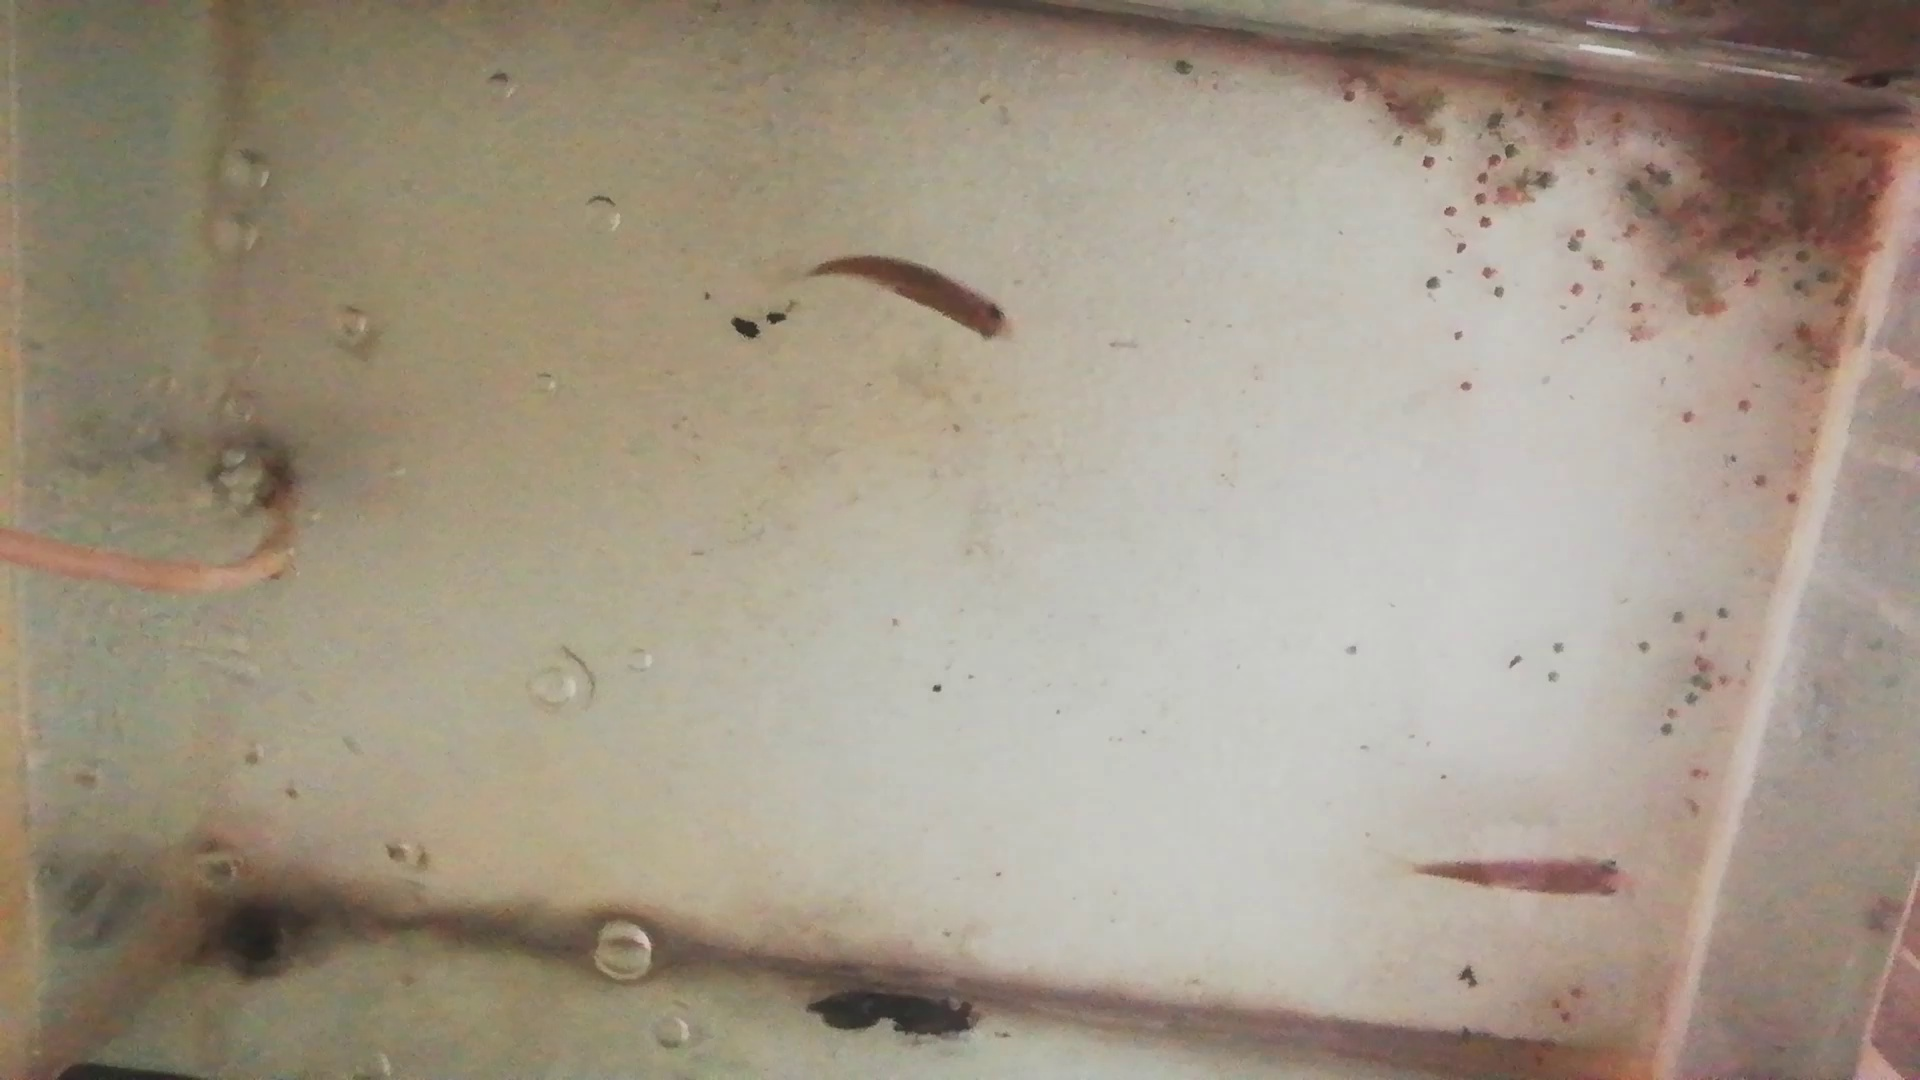fish: (816, 253, 1013, 343), (1418, 853, 1636, 899)
